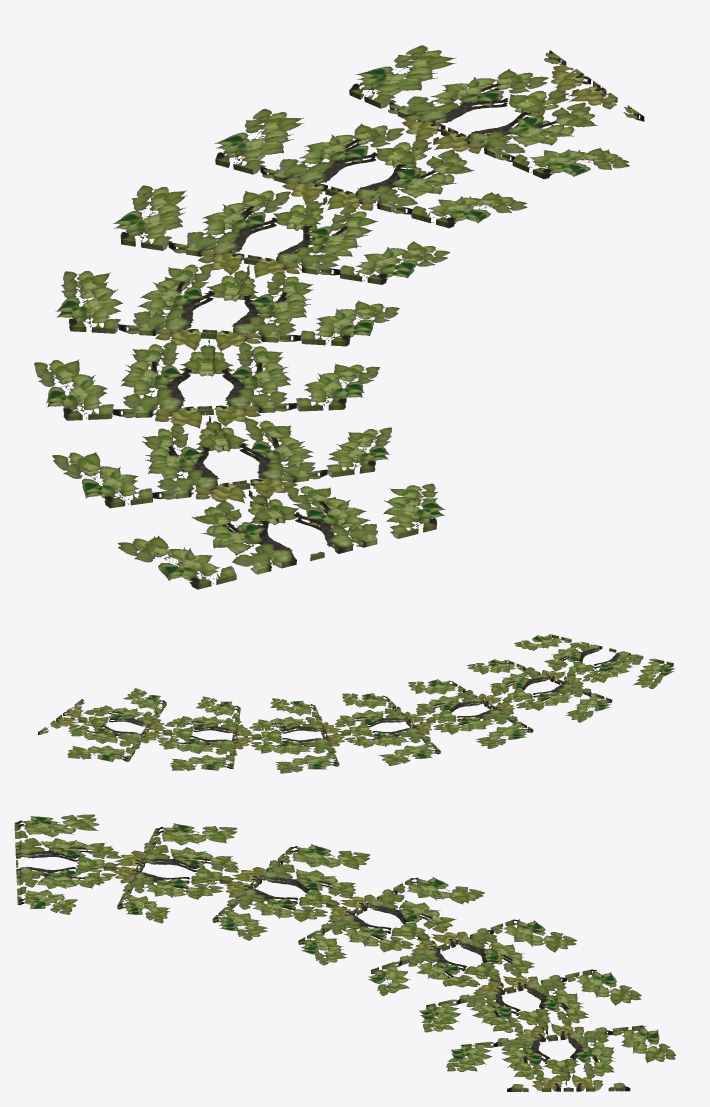
File: walkplane_90_a.FBX
3 renders of one model, top to bottom at view 1: azimuth 30°, elevation 25°; view 2: azimuth 150°, elevation 25°; view 3: azimuth 270°, elevation 25°, orthographic. The views are drawn at different scales.
Visible parts, largest first — view 1: walkplane_90_a; view 2: walkplane_90_a; view 3: walkplane_90_a.
Part boxes in pixels (box(x1,y1,x2,y2)): walkplane_90_a: box(34, 45, 644, 589); walkplane_90_a: box(38, 634, 675, 773); walkplane_90_a: box(14, 814, 675, 1091).
Bounding box in the file's own units: 10.44 × 10.71 × 0.0857.
